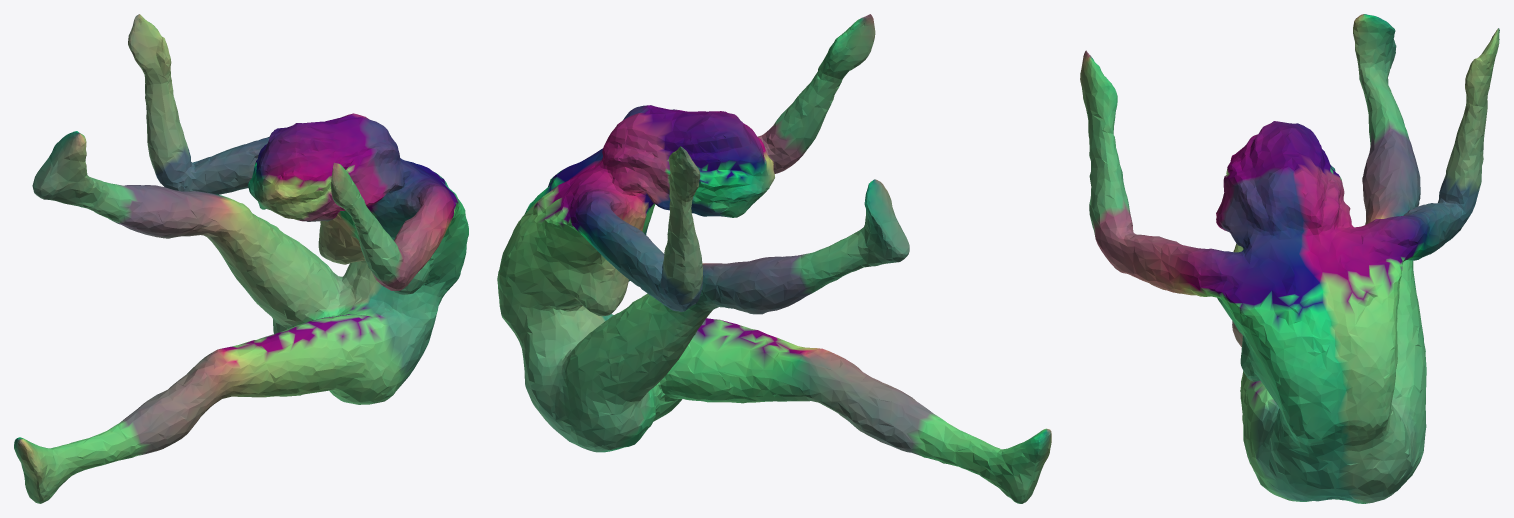
Rendered from woman-20.off.obj.
3 renders of one model, left to right at view 1: azimuth 30°, elevation 25°; view 2: azimuth 150°, elevation 25°; view 3: azimuth 270°, elevation 25°, orthographic. The views are drawn at different scales.
Bounding box in the file's own units: 1.31 × 0.9545 × 0.9109.
